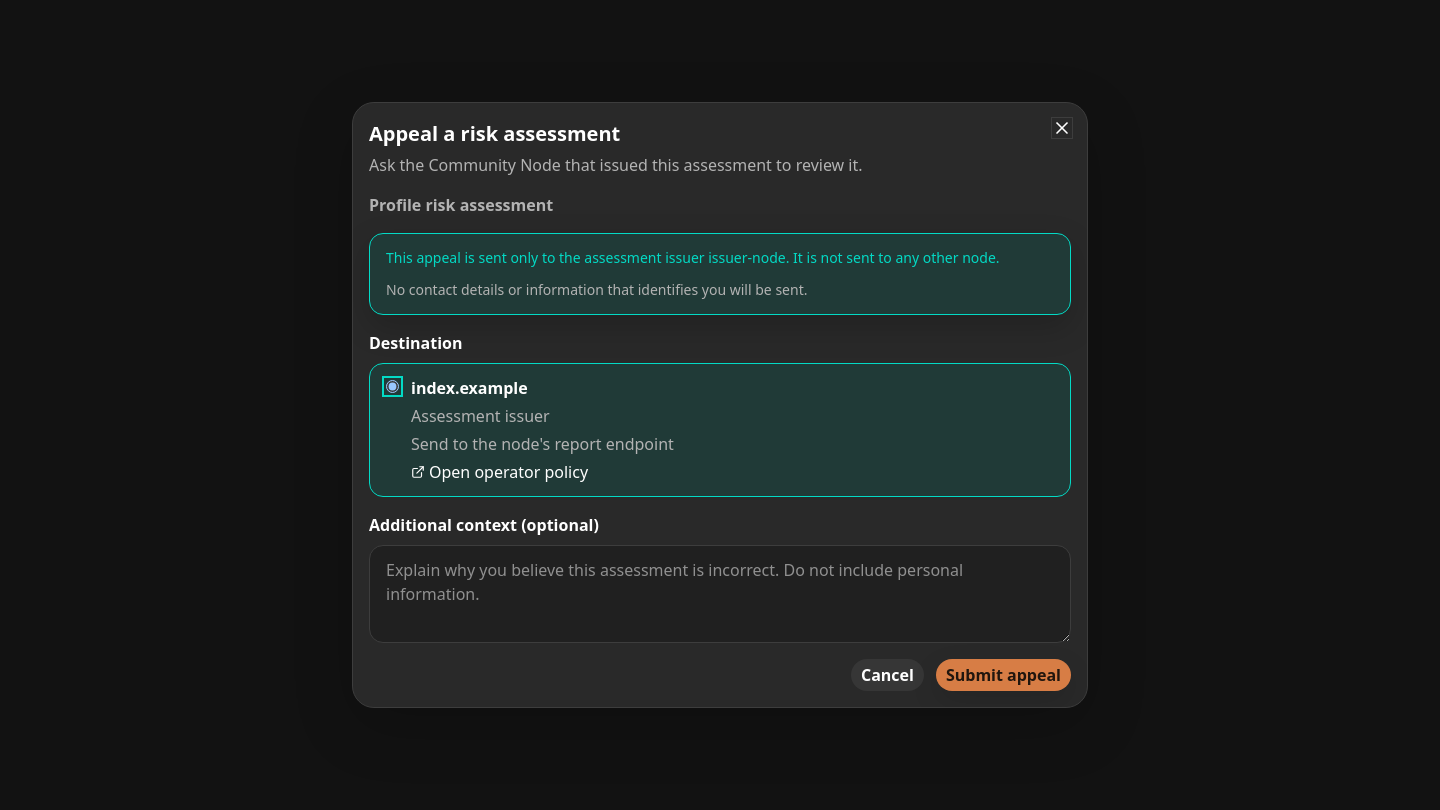
Test: shows a stable localized message for an invalid appeal
Click the button "Submit appeal". click: (1003, 675)
box: [936,659,1071,691]
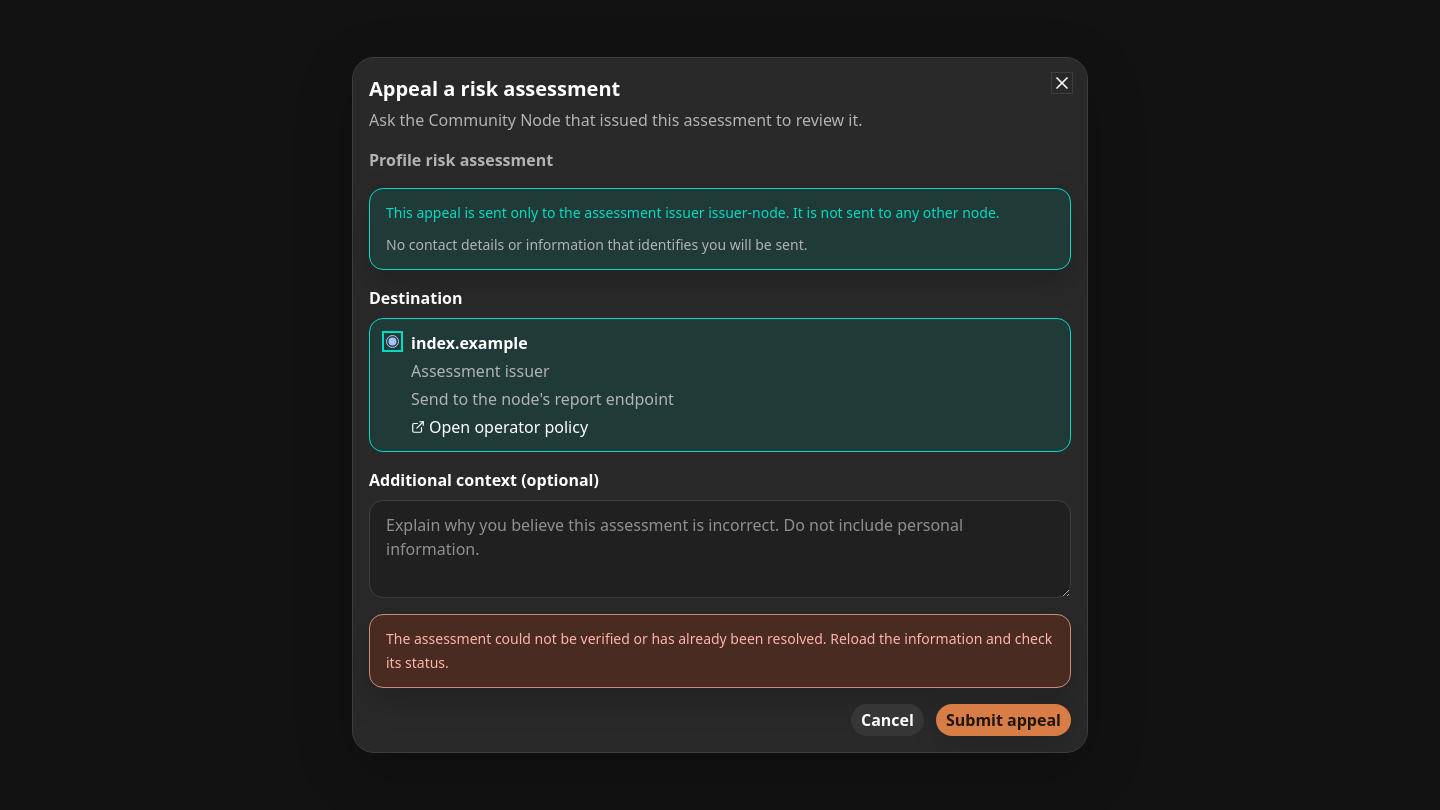
Result: the text "The assessment could not be verified or has already been resolved" is shown at [386,629,1052,672]
